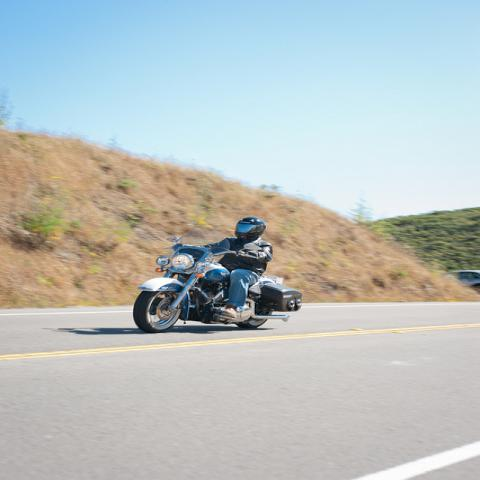car: (447, 269, 479, 289)
motorcycle: (136, 232, 313, 331)
